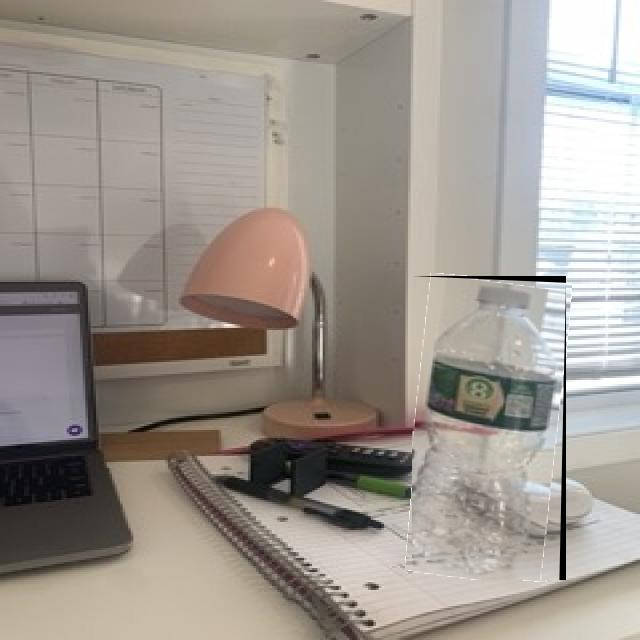water_bottle: (412, 276, 566, 580)
